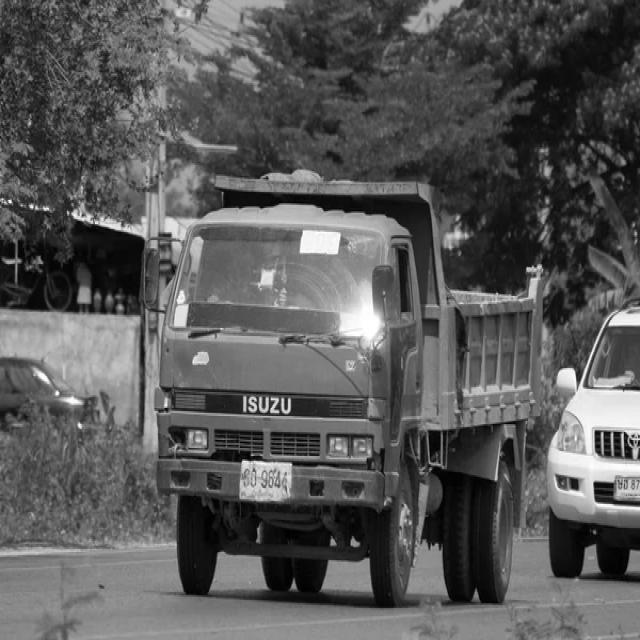Car: (550, 297, 640, 578), (0, 358, 99, 430)
Truck: (155, 178, 543, 607)
